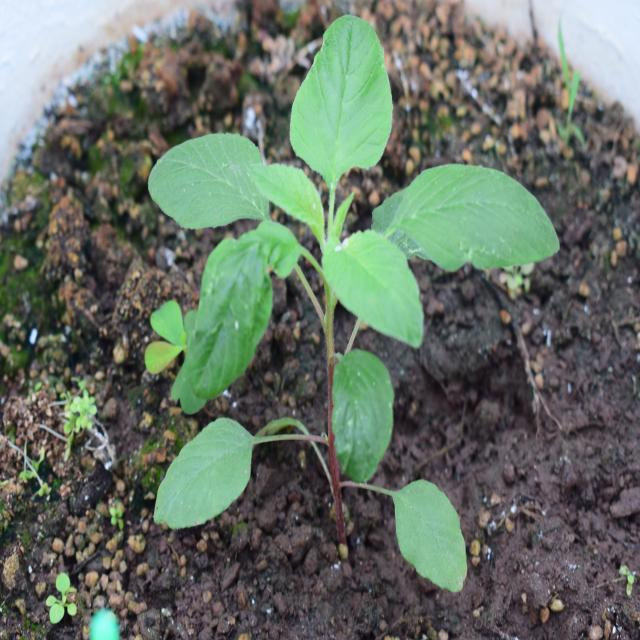pigweed: (154, 34, 531, 578)
